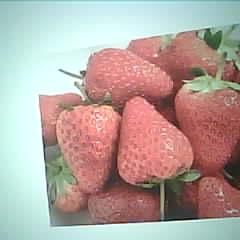straw-ripe: (118, 98, 193, 187), (175, 81, 240, 173), (56, 104, 120, 191), (86, 48, 175, 104)
